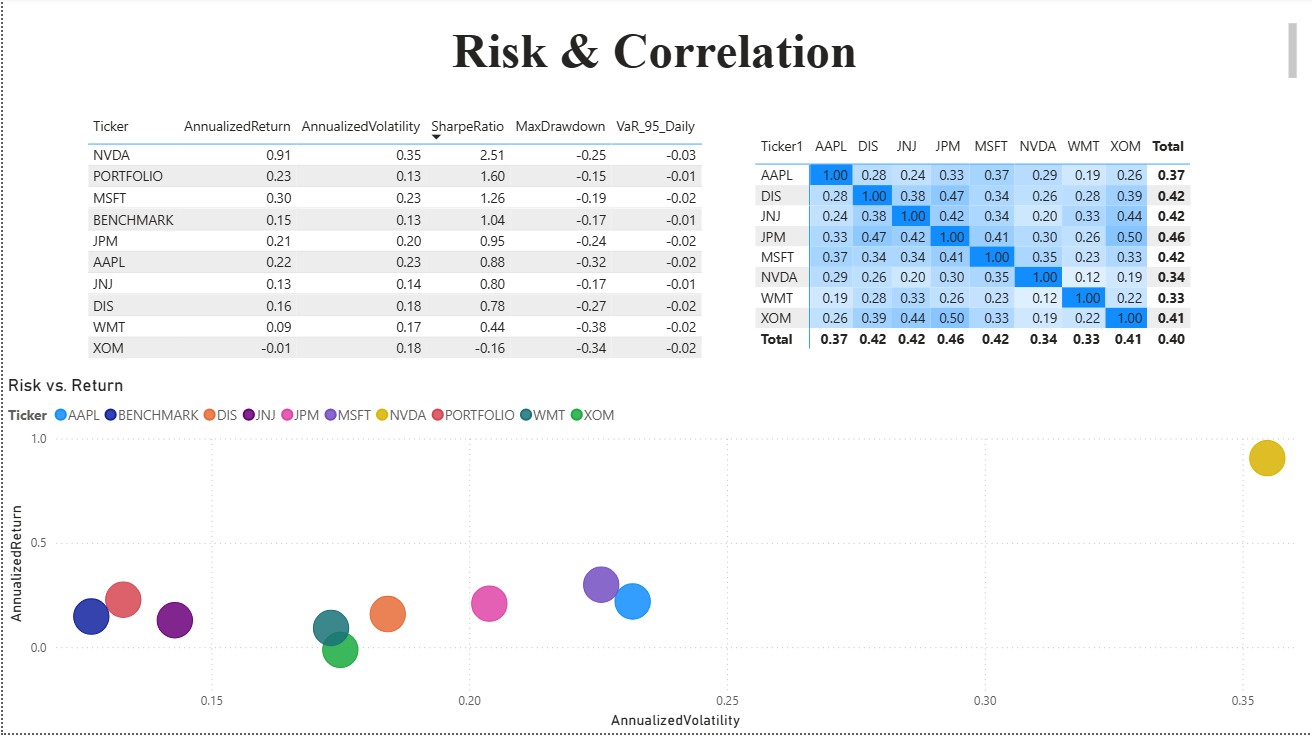

This screenshot's page, from the dashboard's own definition file:
{"tool":"powerbi","page":{"name":"Page 3","canvas":[1280,720],"ordinal":2},"visuals":[{"type":"textbox","box":[0,20.6,1270.7,64.5],"z":0},{"type":"tableEx","fields":{"Values":["risk_metrics.Ticker","risk_metrics.AnnualizedReturn","risk_metrics.AnnualizedVolatility","risk_metrics.SharpeRatio","risk_metrics.MaxDrawdown","risk_metrics.VaR_95_Daily"]},"box":[77,110.1,632.2,259.2],"z":1},{"type":"scatterChart","title":"Risk vs. Return","fields":{"X":["risk_metrics.AnnualizedVolatility"],"Y":["risk_metrics.AnnualizedReturn"],"Size":["CountNonNull(risk_metrics.SharpeRatio)"],"Series":["risk_metrics.Ticker"]},"box":[0,369.1,1280.3,351.3],"z":3},{"type":"pivotTable","fields":{"Rows":["correlation_matrix_long.Ticker1"],"Columns":["correlation_matrix_long.Ticker2"],"Values":["Avg(correlation_matrix_long.Correlation)"]},"box":[731.3,129.6,446.3,220.1],"z":4}]}

Visuals, with their boxes in screenshot pixels (x1, y1, x2, y2), scaled from the page's 1280x720 canvas onto the 1312x737 screenshot:
textbox: bbox(0, 21, 1302, 87)
tableEx - risk_metrics.Ticker x risk_metrics.AnnualizedReturn: bbox(79, 113, 727, 378)
"Risk vs. Return" scatterChart: bbox(0, 378, 1311, 736)
pivotTable - correlation_matrix_long.Ticker1 x correlation_matrix_long.Ticker2: bbox(750, 133, 1207, 358)
